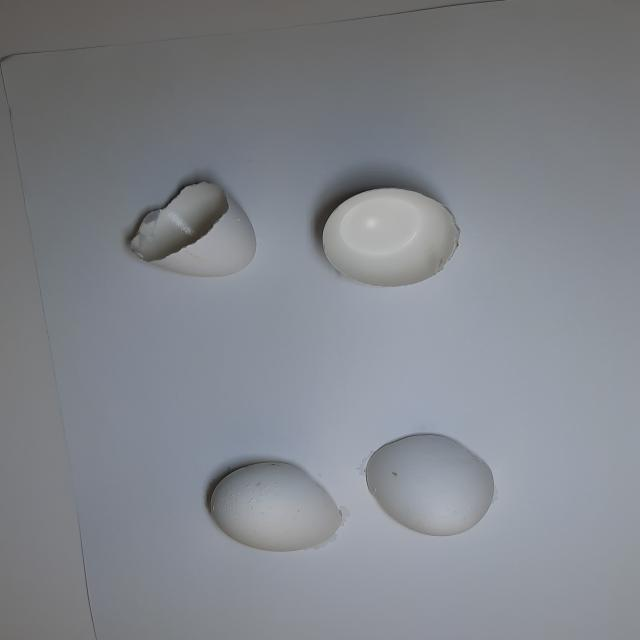egg shell: (303, 179, 478, 295), (109, 170, 270, 288), (358, 426, 512, 544), (205, 454, 354, 556)
